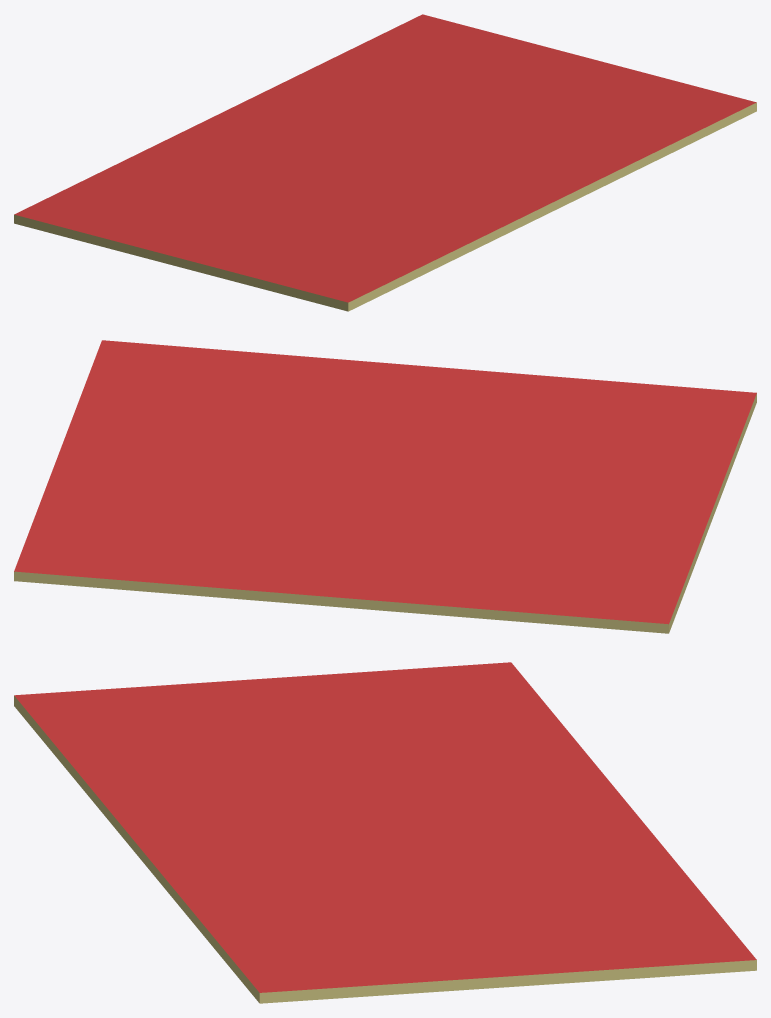
3 renders of one model, top to bottom at view 1: azimuth 30°, elevation 25°; view 2: azimuth 150°, elevation 25°; view 3: azimuth 270°, elevation 25°, orthographic. The views are drawn at different scales.
Size of the model in its own units: 7.42 by 6.28 by 0.476.
